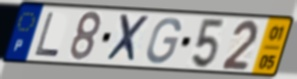2: (221, 18, 262, 73)
5: (189, 17, 226, 70)
8: (68, 10, 102, 63)
G: (145, 16, 183, 66)
L: (33, 11, 62, 58)
X: (103, 13, 152, 65)
